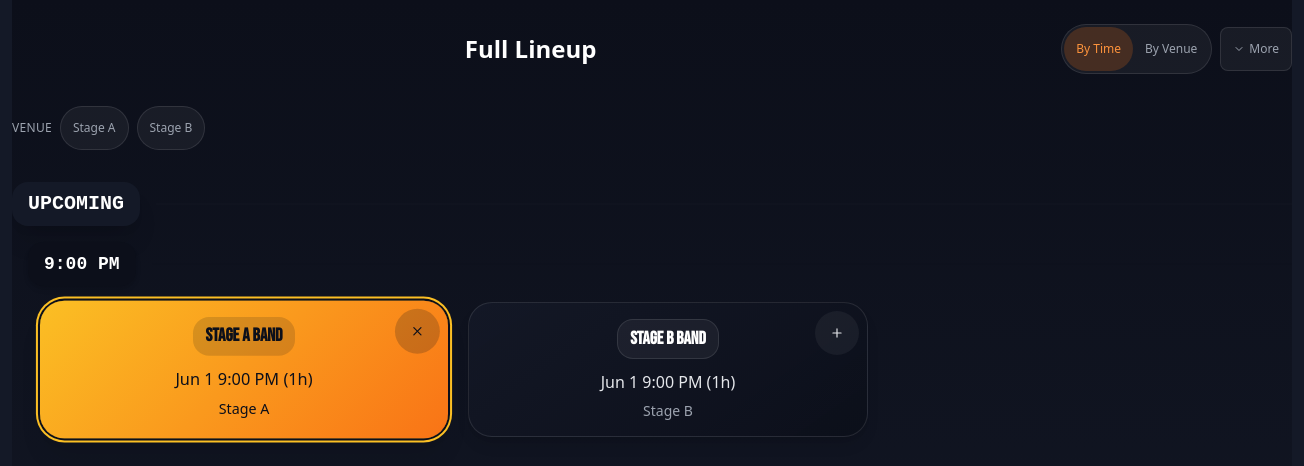
it: ScheduleView — P1: Select All respects visible filters › treats all visible bands as selected even when hidden bands remain unselected
The width and height of the screenshot is (1304, 466).
Click the button "Stage A" at x=94, y=128, box [60,106,128,150]
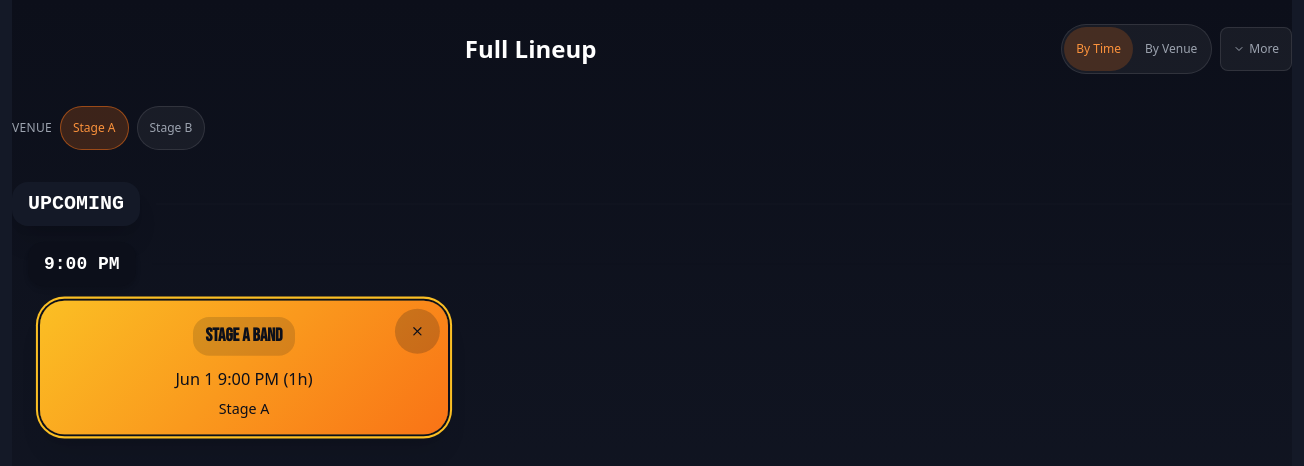
Click the button "More" at x=1256, y=49, box [1220,27,1292,71]
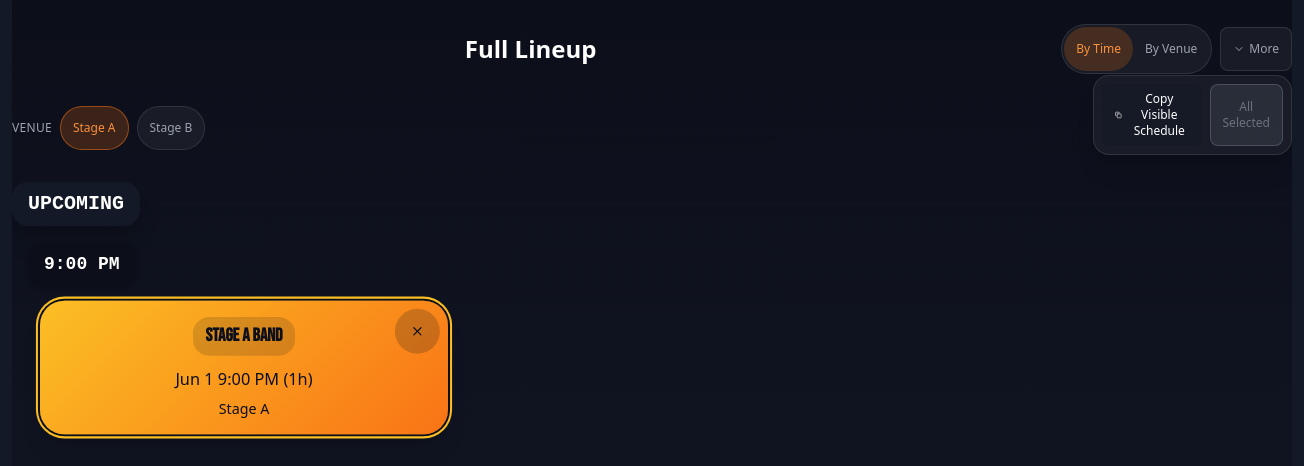
expect the button "All Selected" is disabled: met, box [1210,84,1283,146]
